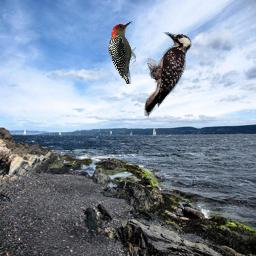Woodpecker: (142, 31, 197, 119), (108, 21, 136, 84)
